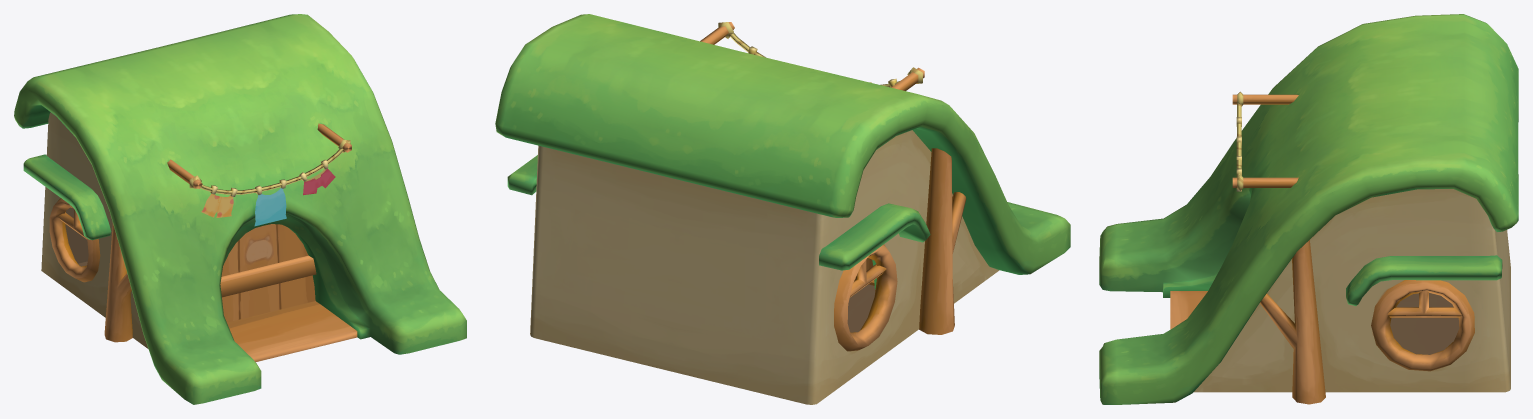
Rendered from SM_House_lv2.fbx.
3 renders of one model, left to right at view 1: azimuth 30°, elevation 25°; view 2: azimuth 150°, elevation 25°; view 3: azimuth 270°, elevation 25°, orthographic. The views are drawn at different scales.
Visible parts, largest first — view 1: SM_House_lv2; view 2: SM_House_lv2; view 3: SM_House_lv2.
Boxes of the visible parts, x1,y1,x2,y2 form: SM_House_lv2: (14,14,466,404); SM_House_lv2: (495,14,1070,404); SM_House_lv2: (1099,14,1518,404).
Size of the model in its own units: 562 by 410 by 642.
